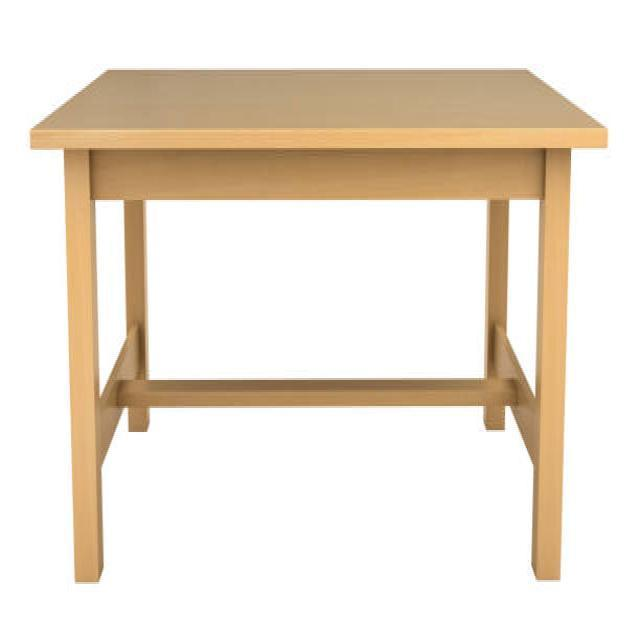table: (29, 64, 608, 584)
